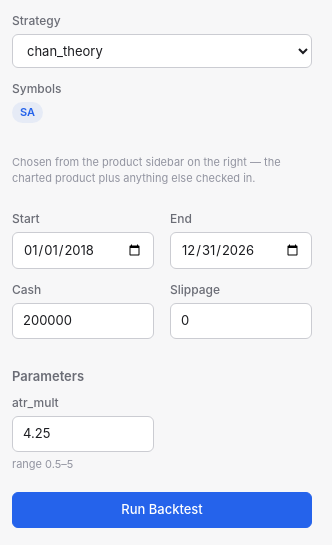
Test: prefill from a past run › still clears params when the user switches strategy themselves
Expected: the number field below "atr_mult" holds "4.25", [12,416,154,452]
Select "double_ma" in the dropdown at (162,51), box [12,34,312,68]
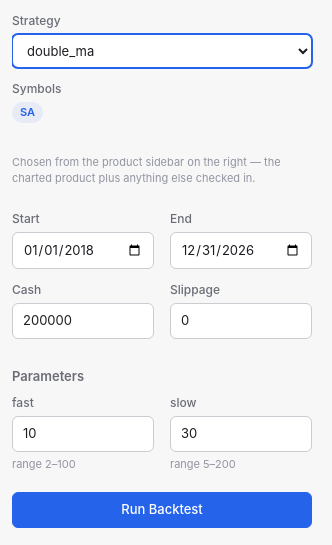
Now the number field below "fast" holds "10", box [12,416,154,452]
Now the number field below "slow" holds "30", box [170,416,312,452]
